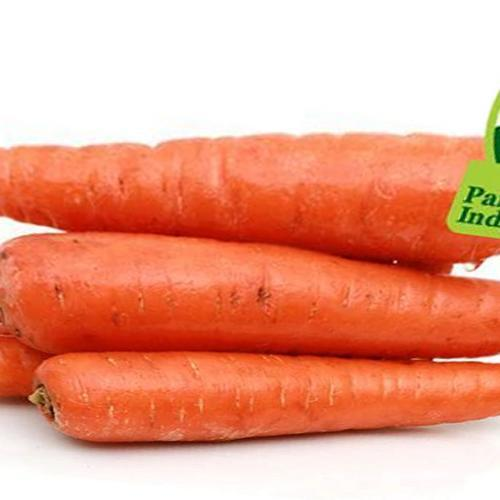carrot: (1, 78, 500, 396), (0, 225, 500, 452)
